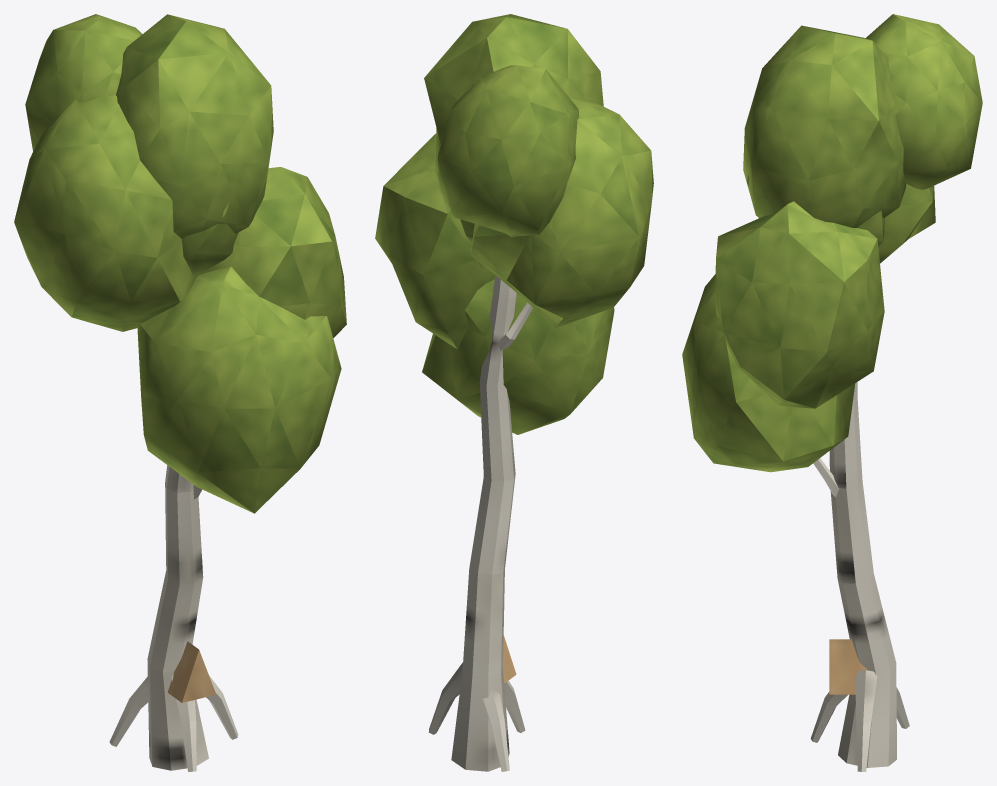
Rendered from SM_Tree_Birch_Small01.fbx.
3 renders of one model, left to right at view 1: azimuth 30°, elevation 25°; view 2: azimuth 150°, elevation 25°; view 3: azimuth 270°, elevation 25°, orthographic. The views are drawn at different scales.
Visible parts, largest first — view 1: SM_Tree_Birch_Small01; view 2: SM_Tree_Birch_Small01; view 3: SM_Tree_Birch_Small01.
Boxes of the visible parts, box(x1,y1,x2,y2) form: SM_Tree_Birch_Small01: box(14, 14, 346, 771); SM_Tree_Birch_Small01: box(375, 14, 653, 771); SM_Tree_Birch_Small01: box(682, 14, 982, 771).
Size of the model in its own units: 4.37 by 10.71 by 4.04.
1 material, 1 textured.
